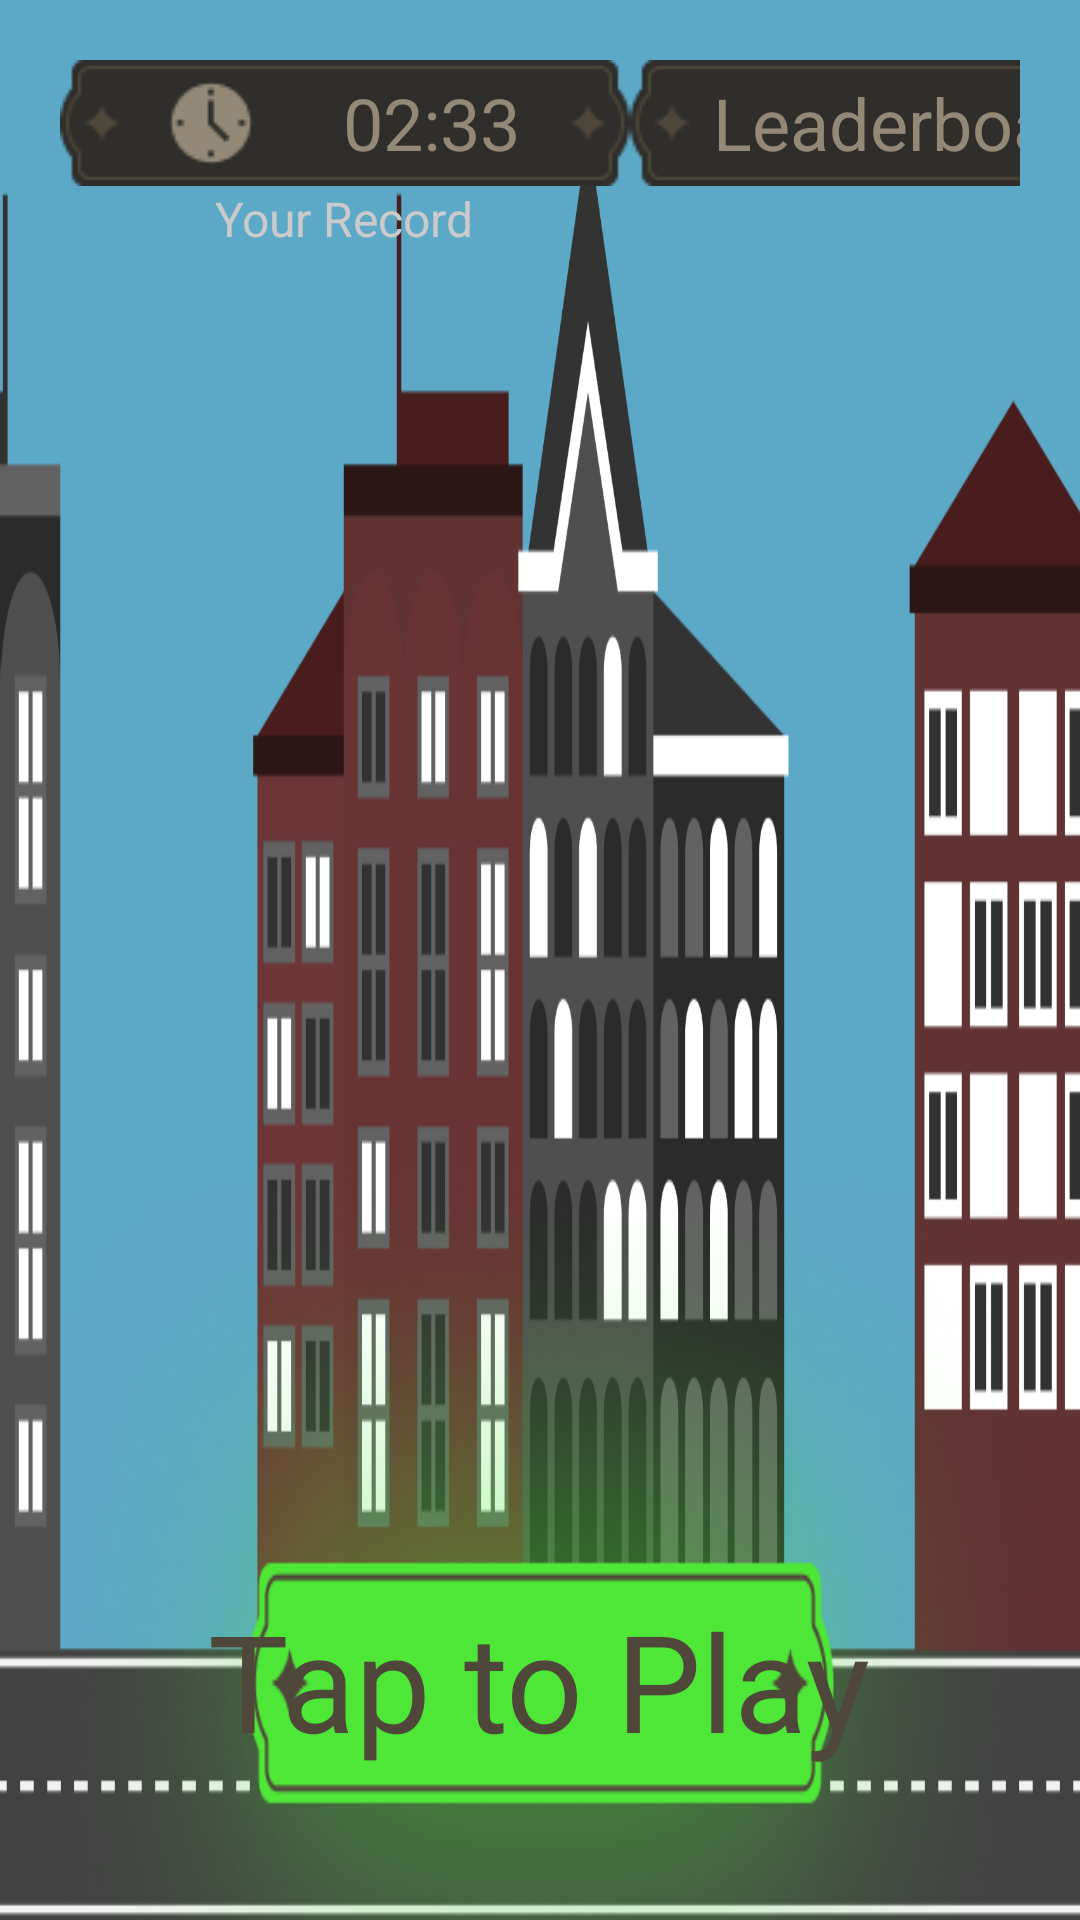

Where to tap for icons on this 1080x1920 app screen, as [x,y]:
clock: [211,123]
